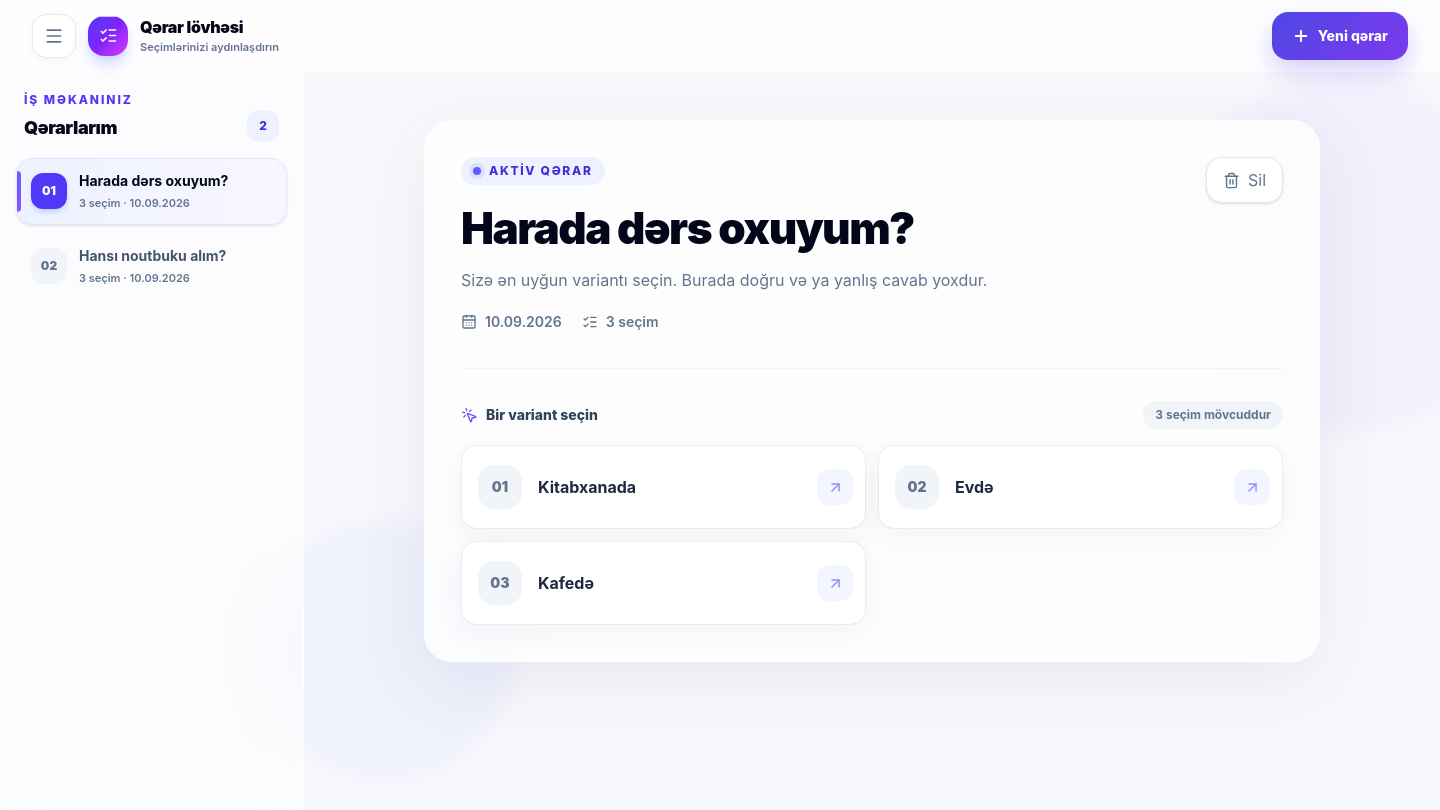
Test case: App › creates a decision, selects an option and allows choosing again
The width and height of the screenshot is (1440, 810).
Expected: the heading "Harada dərs oxuyum?" is shown, x1=461 y1=201 x2=987 y2=256
Click the button "Yeni qərar" at (1340, 36), box x1=1272 y1=12 x2=1408 y2=60
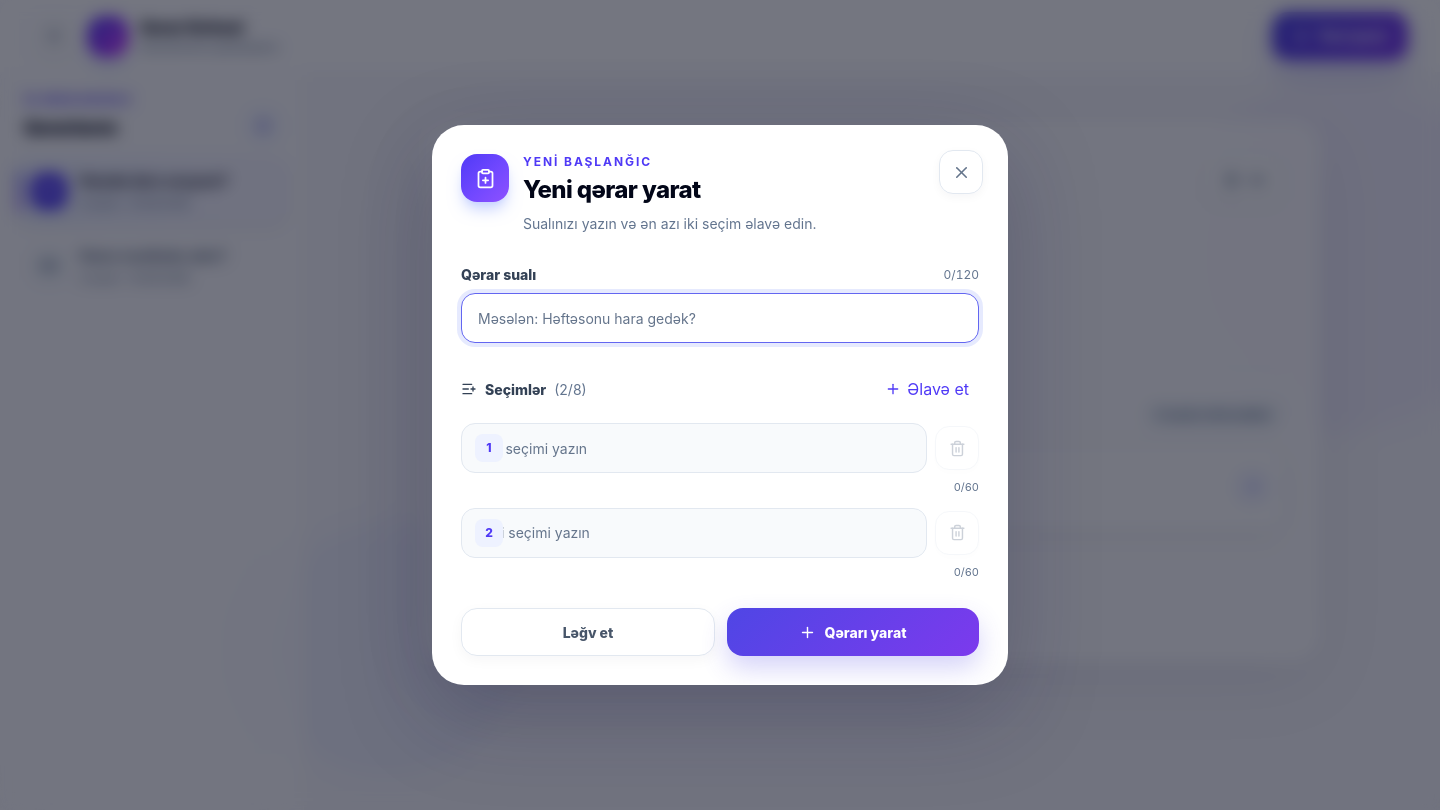
Type "Axşam nə edək?" into the field labelled "Qərar sualı" at (720, 318), box x1=461 y1=293 x2=979 y2=343
Type "Parkda gəzək" into the field named "Seçim 1" at (694, 448), box x1=461 y1=423 x2=927 y2=473
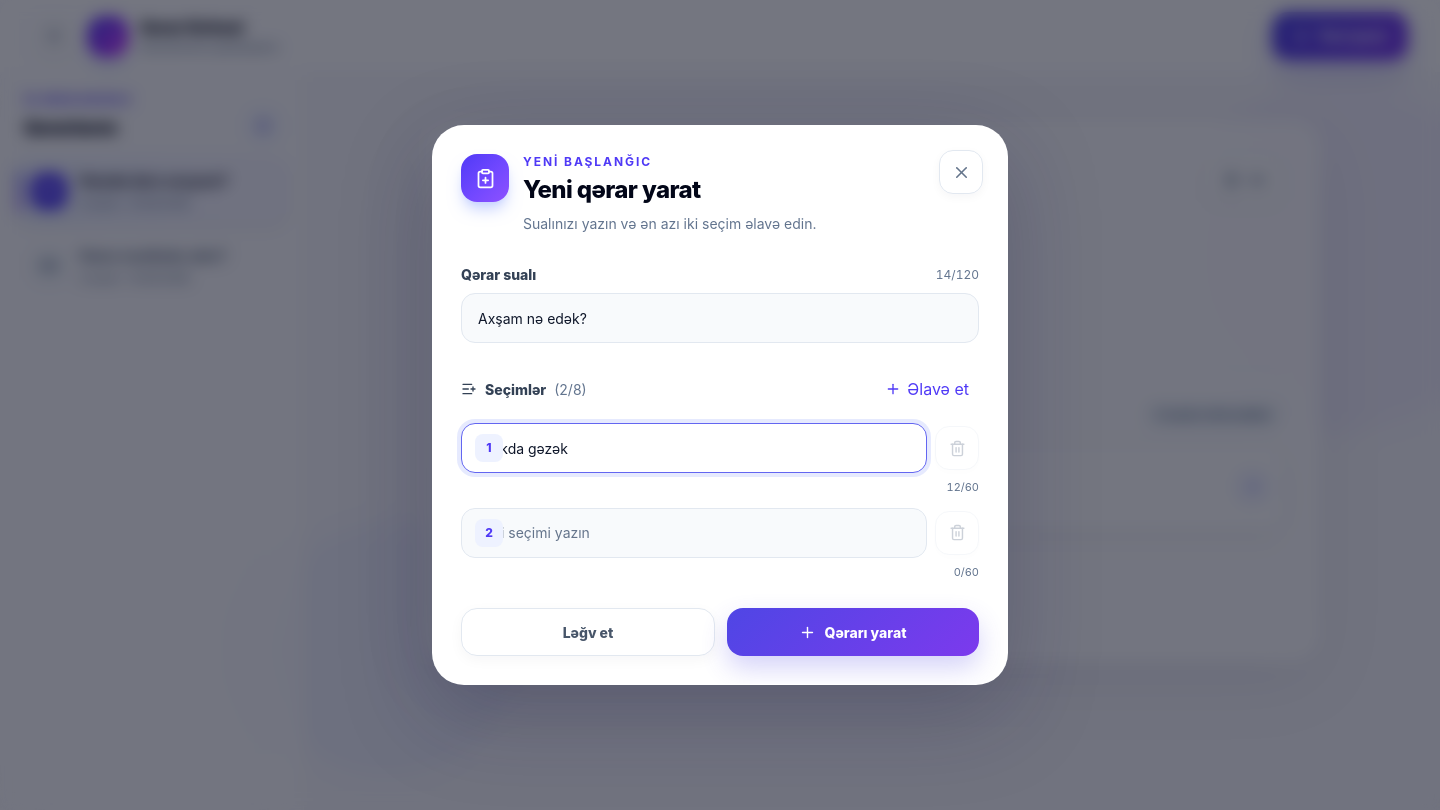
Type "Film izləyək" into the field named "Seçim 2" at (694, 532), box x1=461 y1=508 x2=927 y2=558
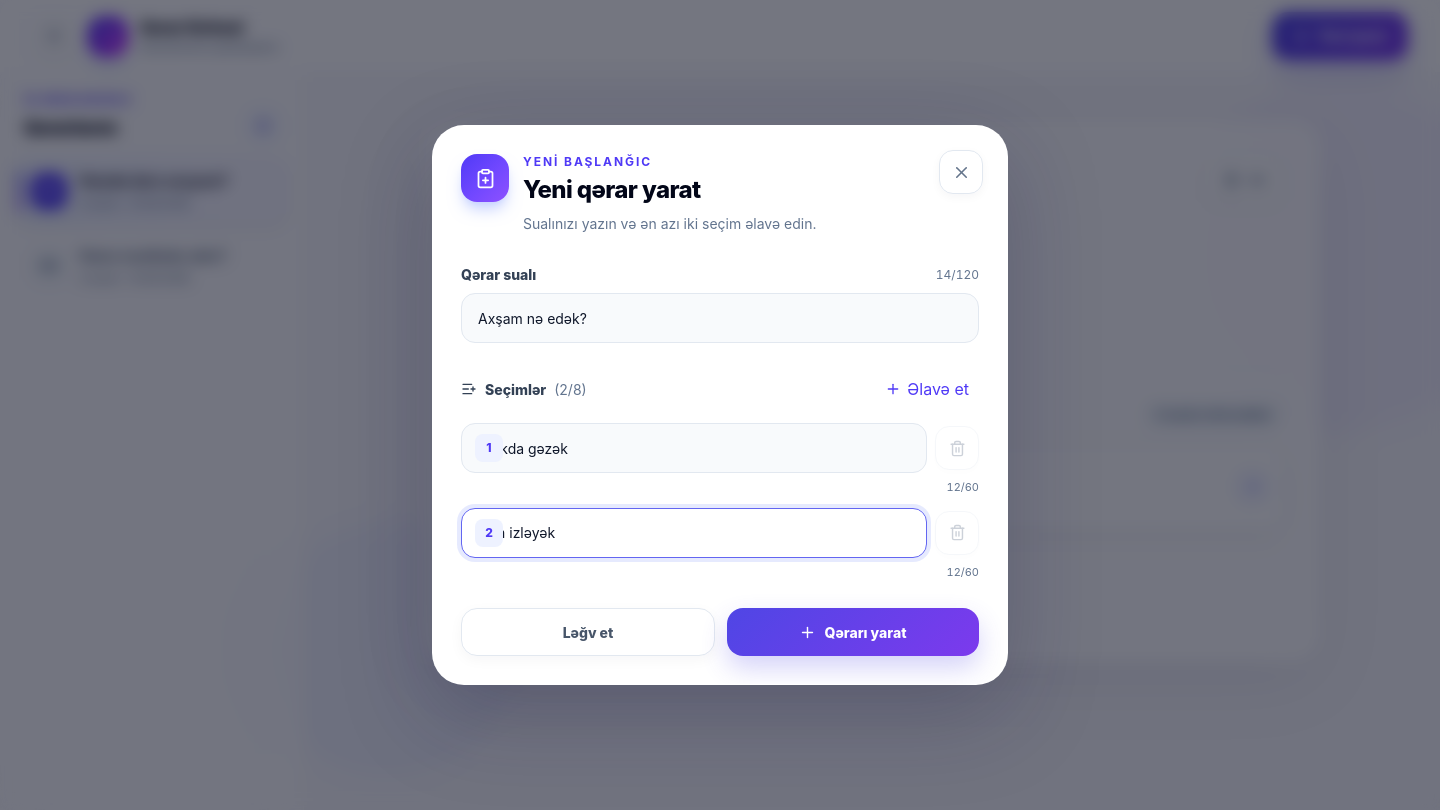
Click the button "Qərarı yarat" at (853, 632), box x1=727 y1=608 x2=979 y2=656
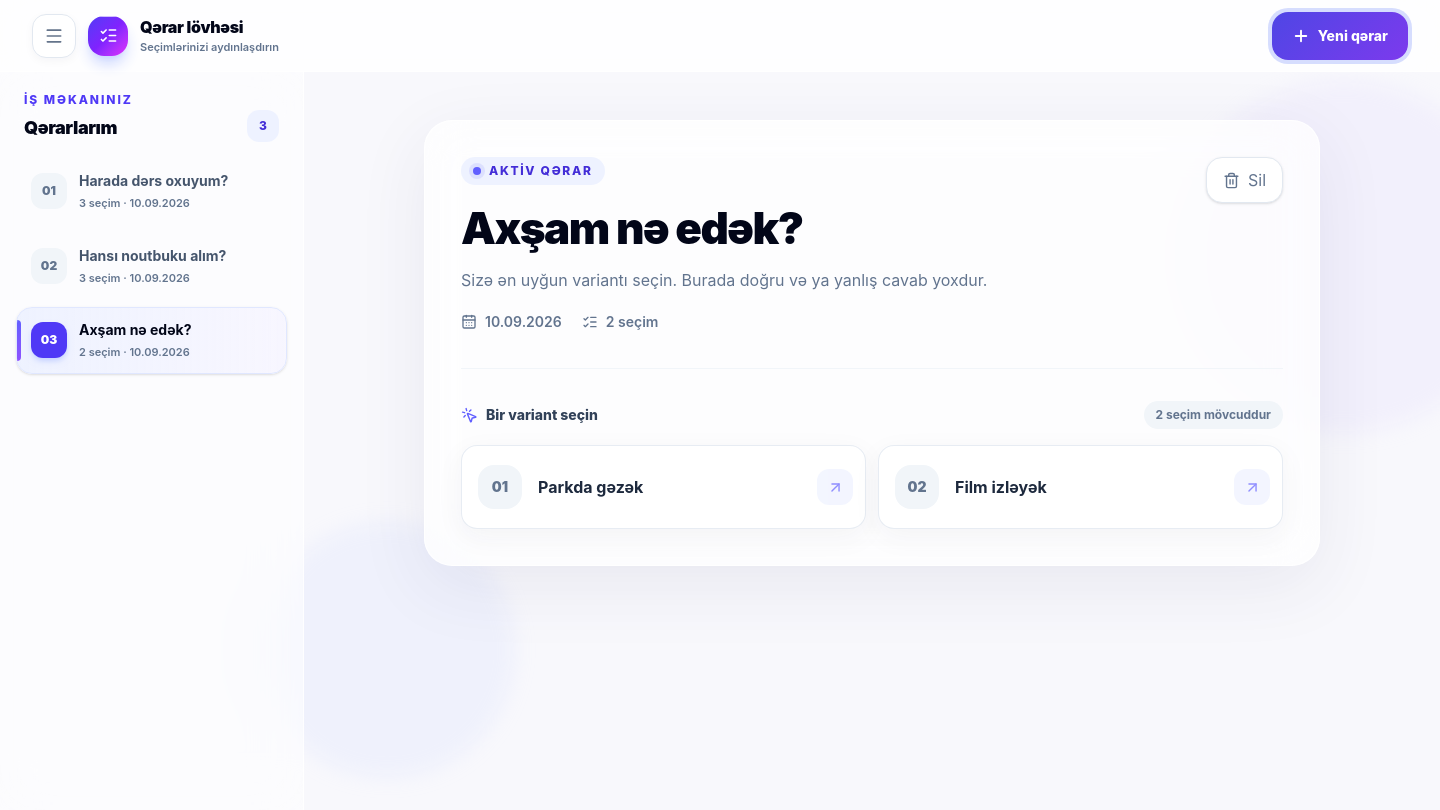
Expected: the heading "Axşam nə edək?" is shown, x1=461 y1=201 x2=802 y2=255
Click the button "01 Parkda gəzək" at (500, 487), box x1=461 y1=445 x2=866 y2=529
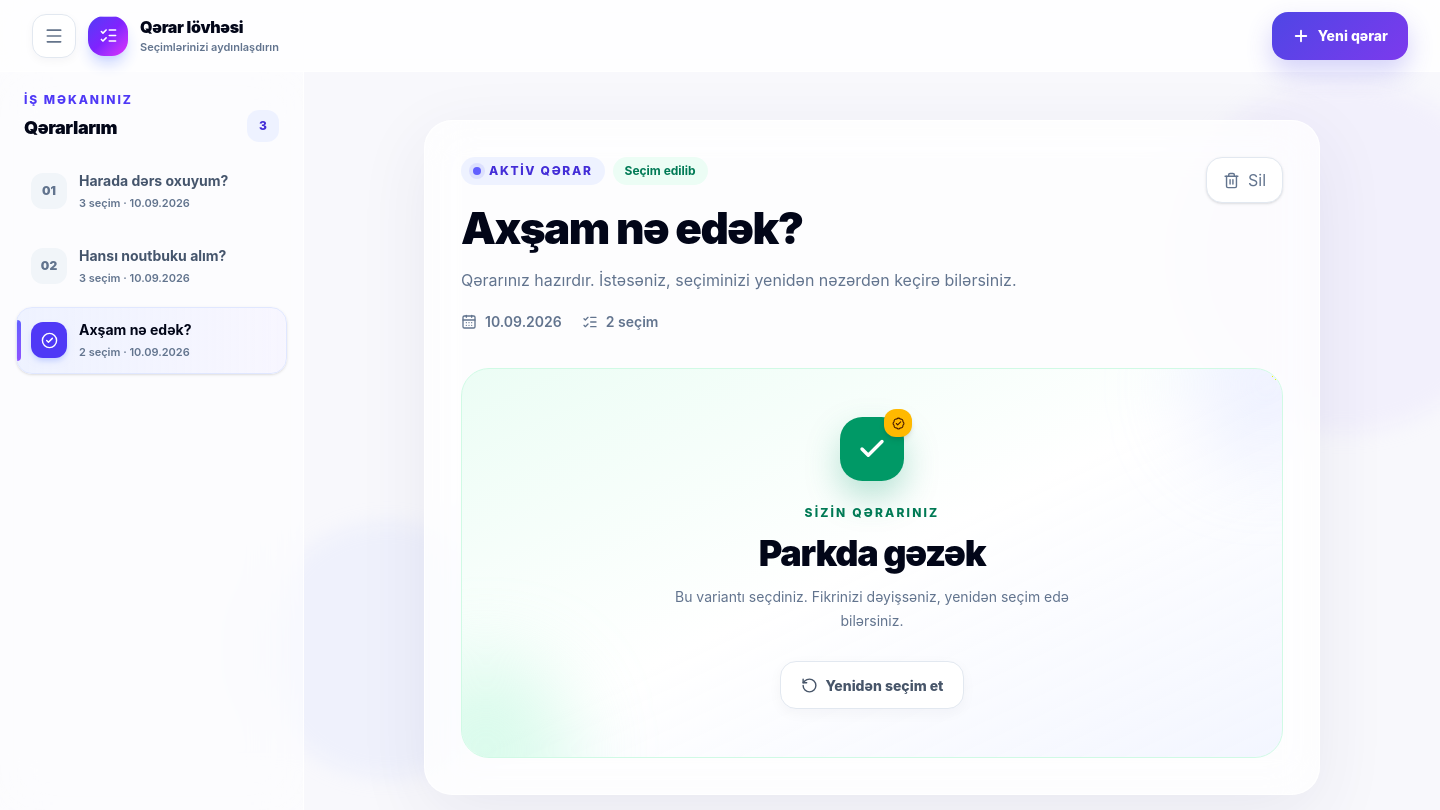
Expected: the heading "Parkda gəzək" is shown, x1=759 y1=531 x2=985 y2=575
Expected: the text "Sizin qərarınız" is shown, x1=805 y1=505 x2=940 y2=520
Click the button "Yenidən seçim et" at (872, 685), box x1=780 y1=661 x2=964 y2=709
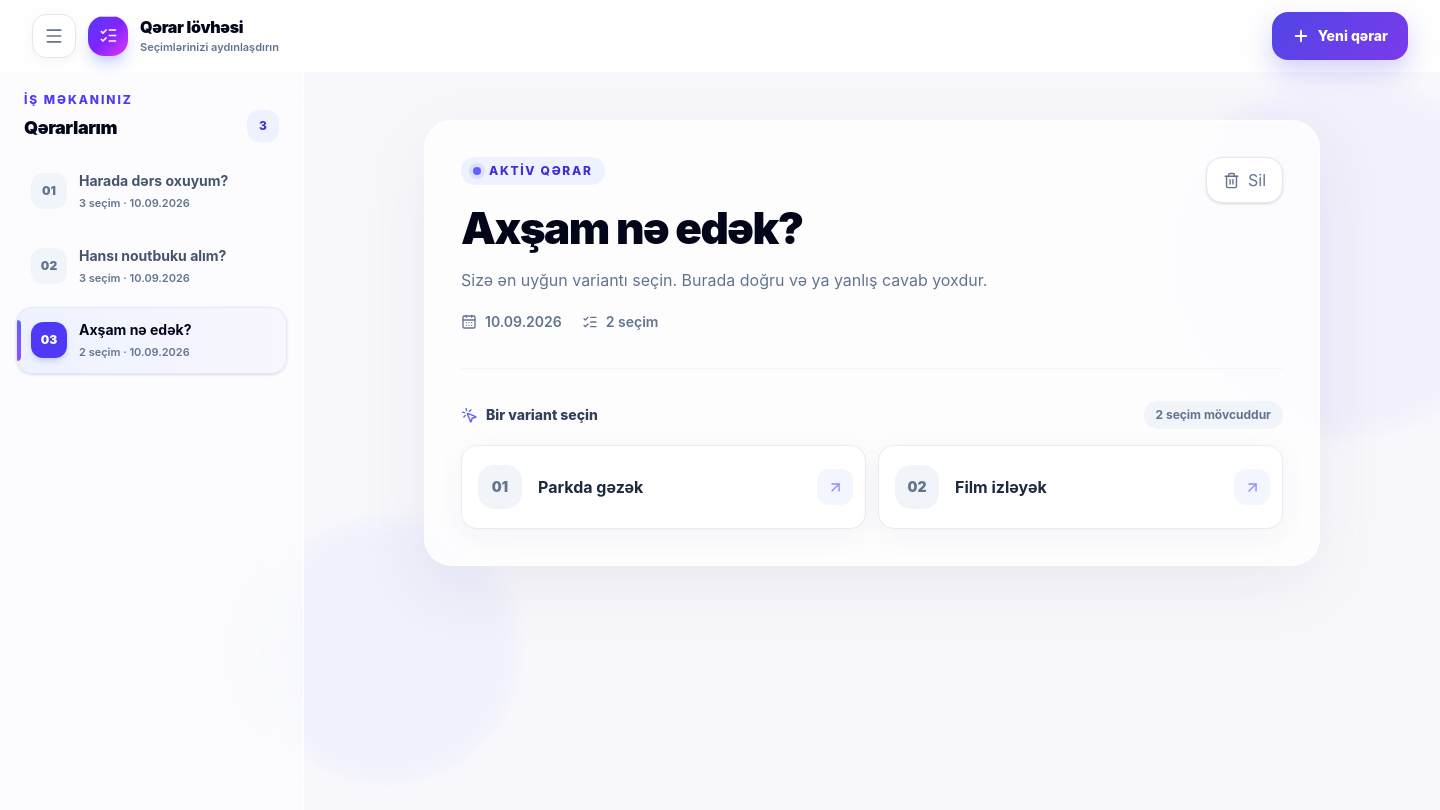
Expected: the button "01 Parkda gəzək" is shown, x1=461 y1=445 x2=866 y2=529
